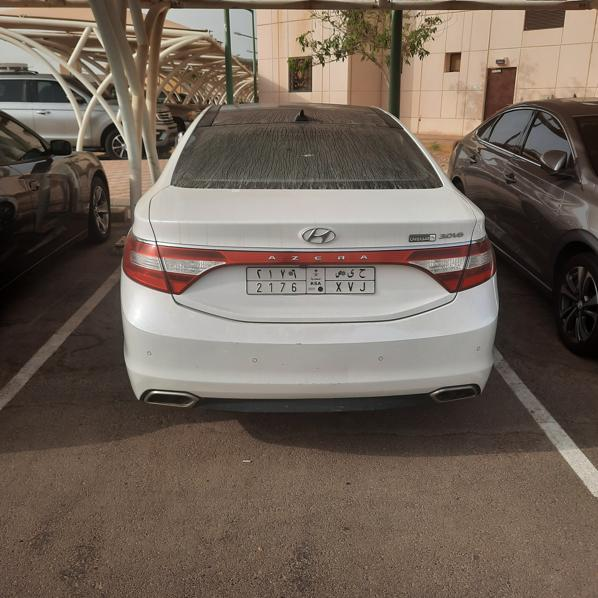numberplate: (247, 267, 376, 294)
